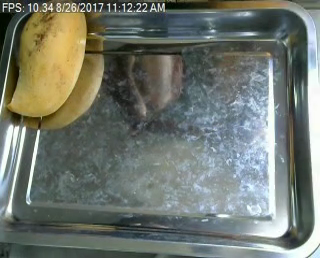Mango: (14, 2, 88, 120)
